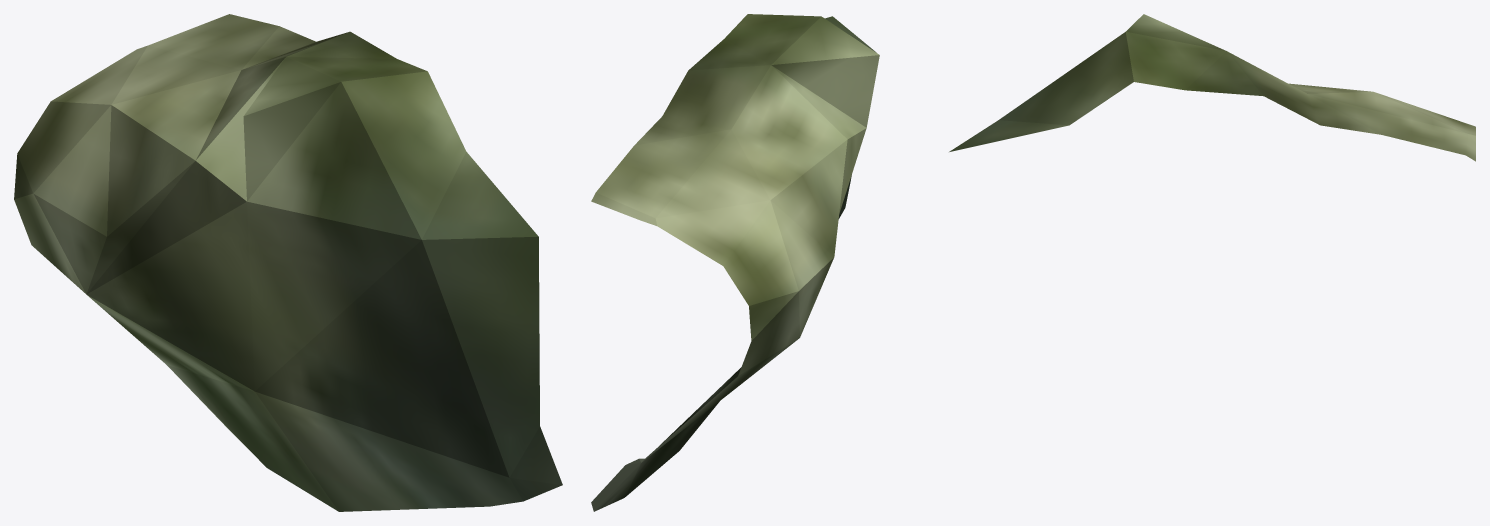
3 renders of one model, left to right at view 1: azimuth 30°, elevation 25°; view 2: azimuth 150°, elevation 25°; view 3: azimuth 270°, elevation 25°, orthographic. The views are drawn at different scales.
Size of the model in its own units: 0.2042 by 0.4484 by 0.5208.
1 material, 1 textured.
